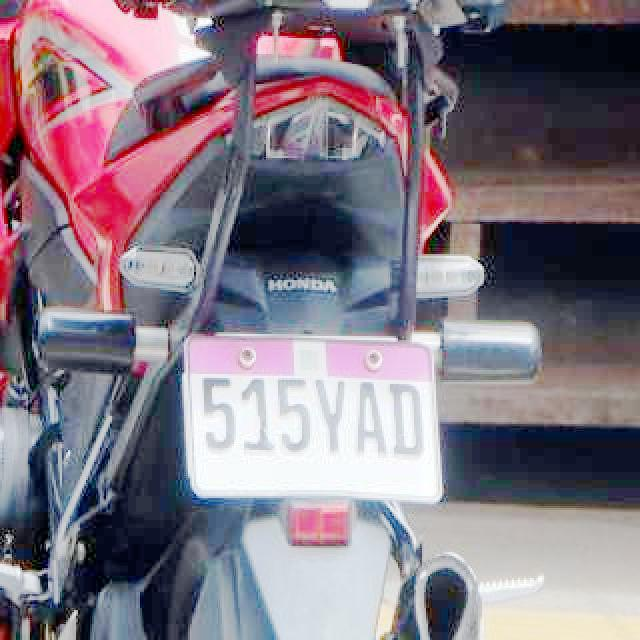license_plate: (189, 335, 442, 500)
